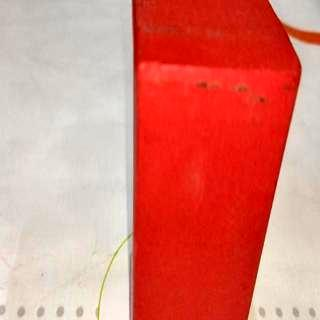redbox: (133, 1, 301, 320)
